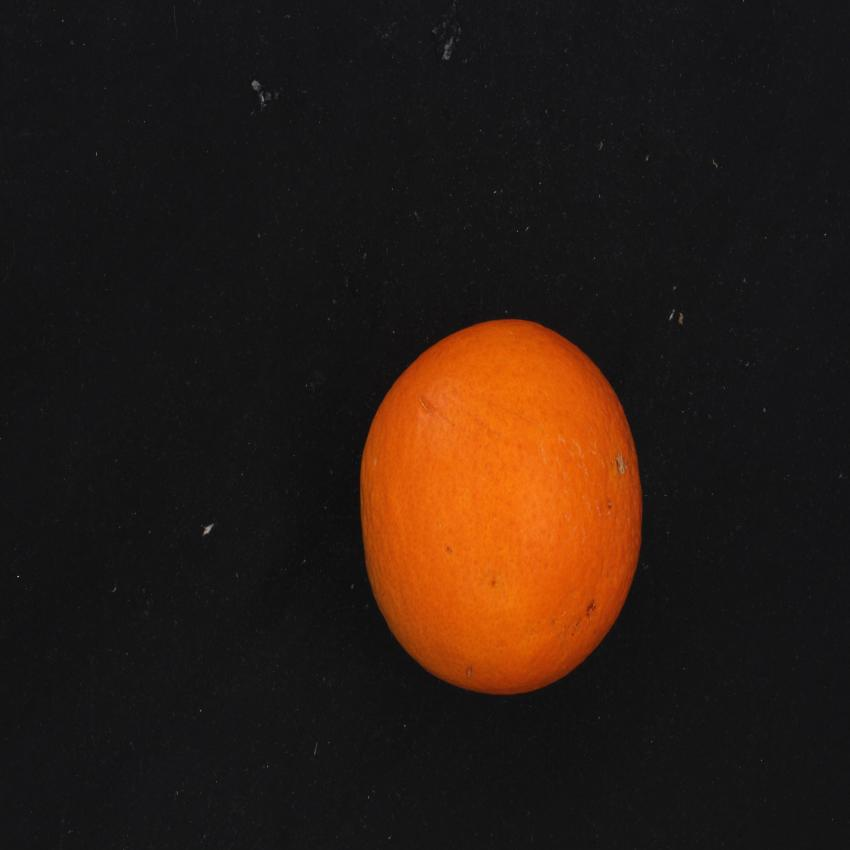Buen estado: (348, 295, 660, 705)
